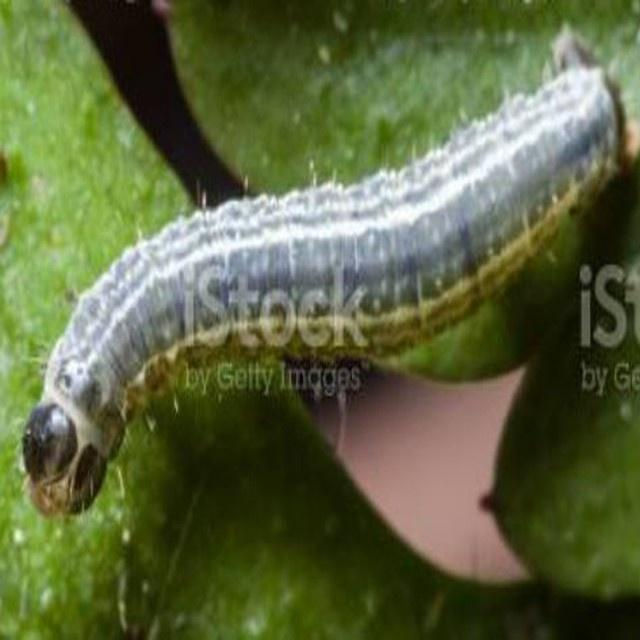gusano_cogollero: (26, 70, 614, 520)
